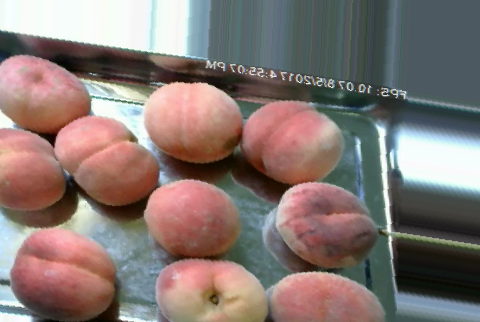Peach: (9, 226, 118, 321), (53, 115, 160, 205), (242, 100, 342, 184), (141, 81, 240, 162), (275, 182, 374, 262), (146, 178, 241, 257), (0, 53, 92, 134), (155, 258, 265, 321), (268, 271, 385, 321), (2, 122, 64, 214)
